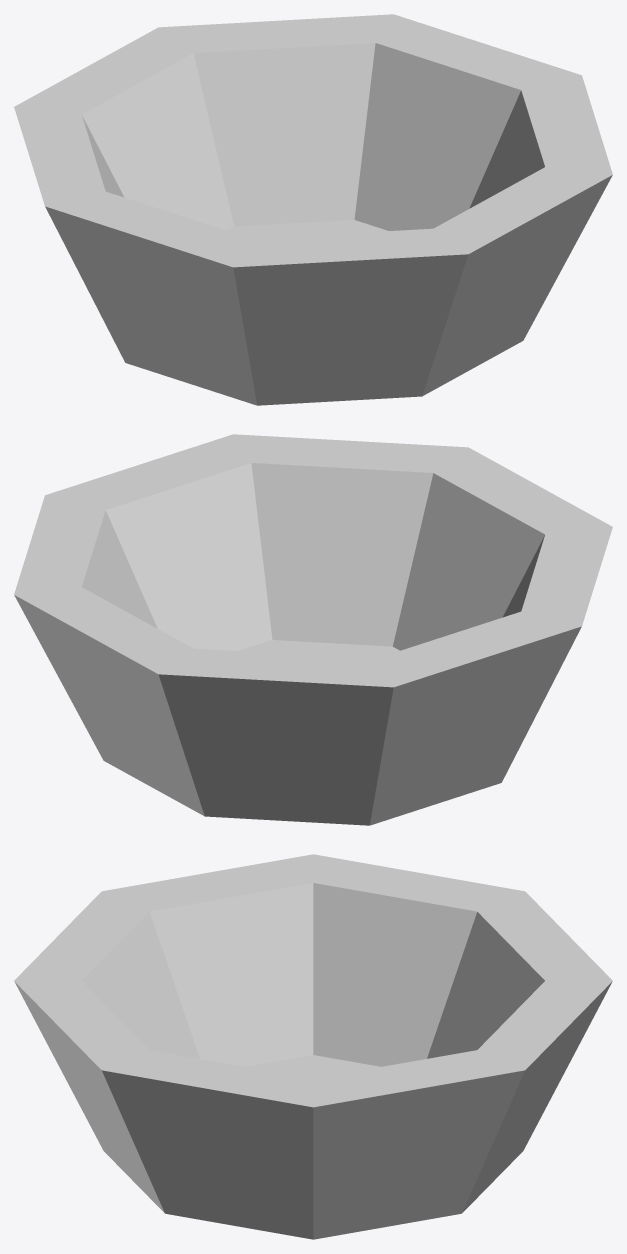
The model's file is bowl.obj.
The picture shows the model from 3 angles, top to bottom: view 1: azimuth 30°, elevation 25°; view 2: azimuth 150°, elevation 25°; view 3: azimuth 270°, elevation 25°; orthographic projection. The views are drawn at different scales.
Visible parts, largest first — view 1: bowl; view 2: bowl; view 3: bowl.
Part boxes in pixels (x1,y1,x2,y2): bowl: (14,14,612,405); bowl: (14,434,612,825); bowl: (14,854,612,1239).
Size of the model in its own units: 0.1148 by 0.036 by 0.1148.
